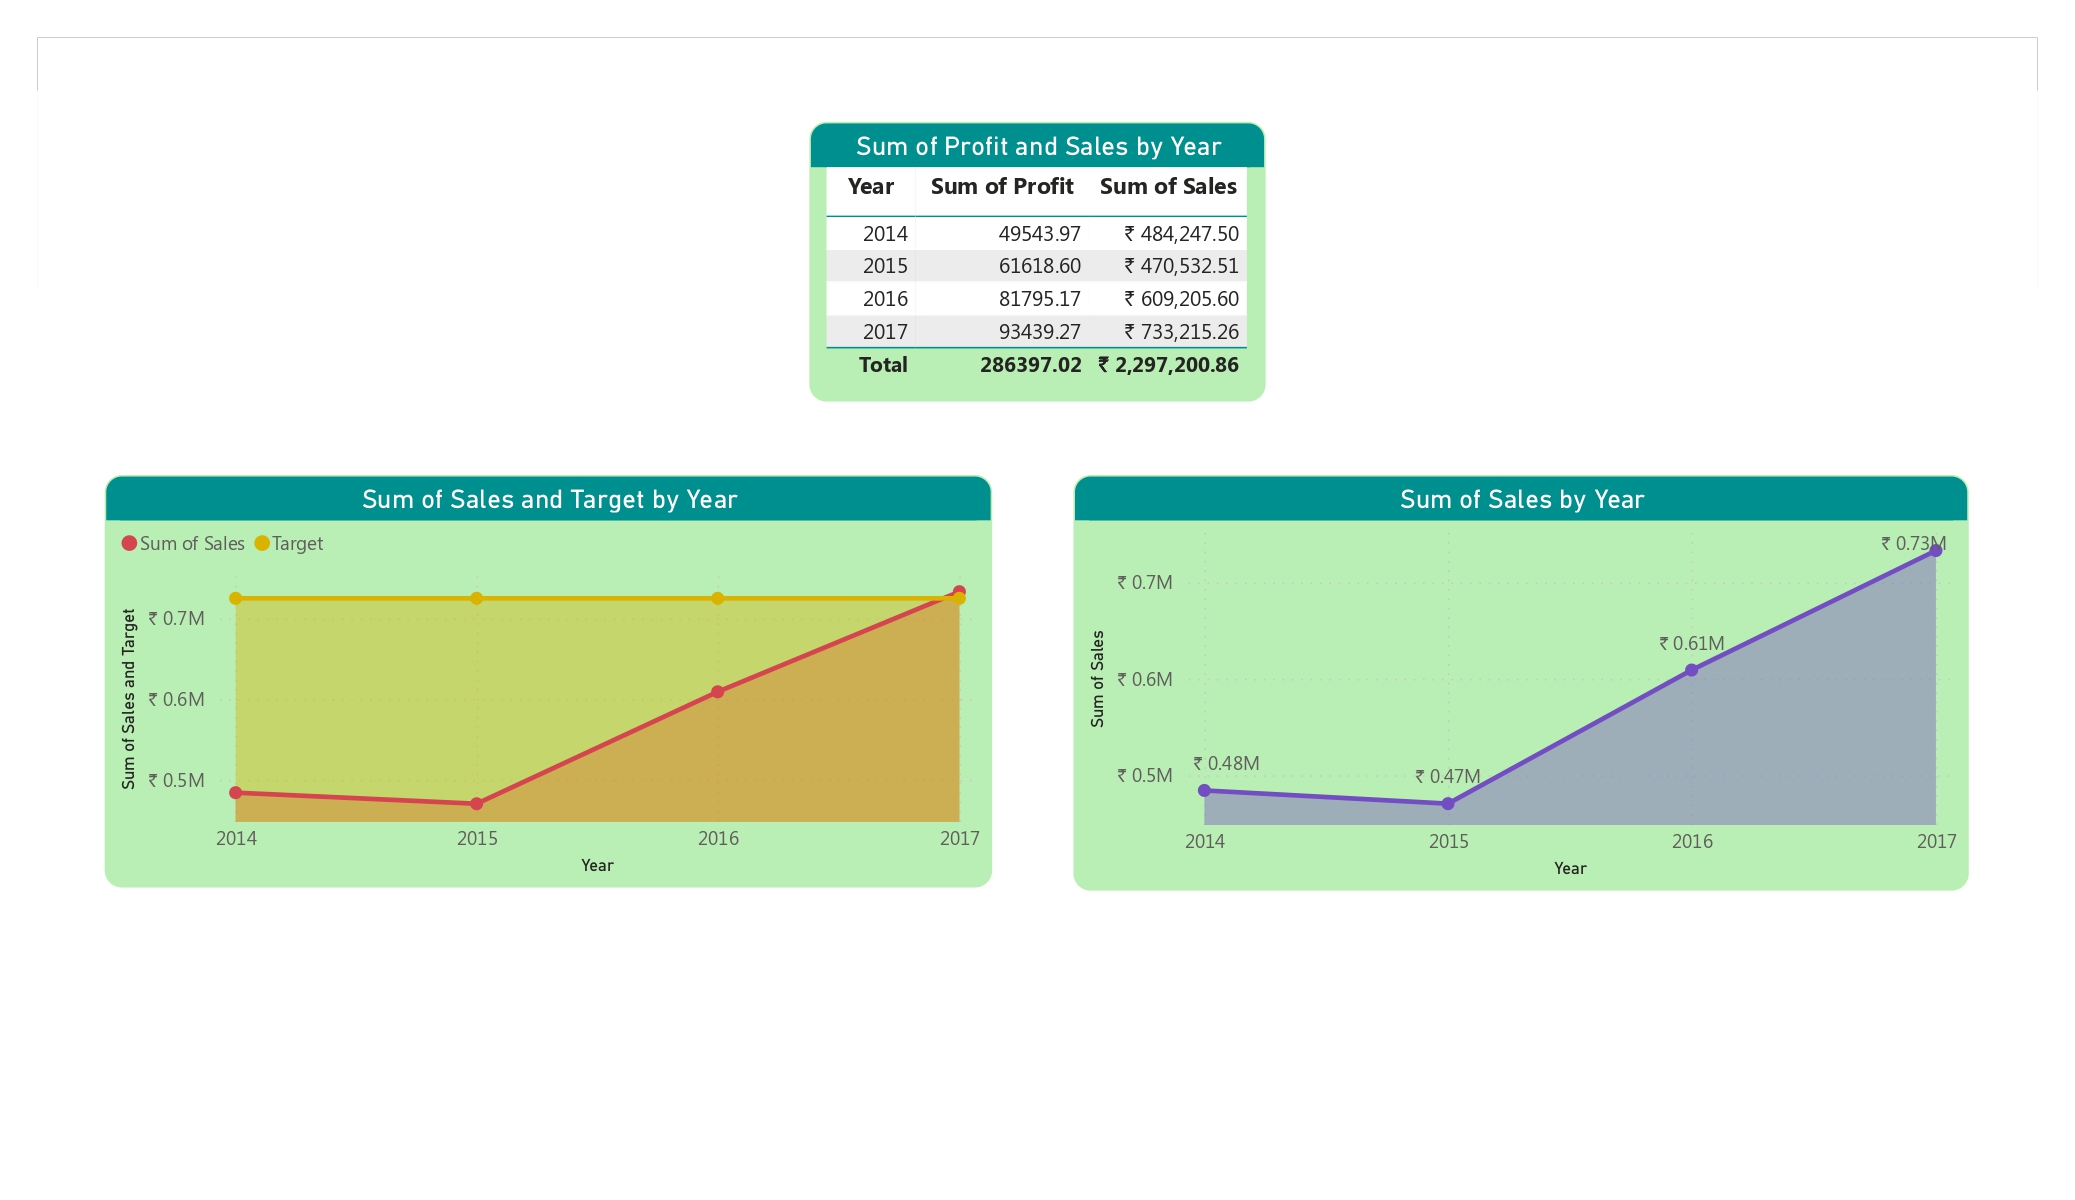

Layout of this report page (visuals, bound fields, positions):
{"tool":"powerbi","page":{"name":"Page 3","canvas":[1280,720],"ordinal":2},"visuals":[{"type":"tableEx","title":"Sum of Profit and Sales by Year","fields":{"Values":["Orders.Order Date.Variation.Date Hierarchy.Year","Sum(Orders.Profit)","Sum(Orders.Sales)"]},"box":[493.8,53.8,292.5,178.8],"z":0},{"type":"areaChart","fields":{"Category":["Orders.Order Date.Variation.Date Hierarchy.Year"],"Y":["Sum(Orders.Sales)","Orders.Target"]},"box":[42.5,280,568.8,263.8],"z":1000},{"type":"areaChart","fields":{"Category":["Orders.Order Date.Variation.Date Hierarchy.Year"],"Y":["Sum(Orders.Sales)"]},"box":[662.5,280,573.8,266.2],"z":2000}]}

Visuals, with their boxes on the page's 1280x720 design canvas (x1, y1, x2, y2). These are canvas units, not pixel positions in the 2075x1200 screenshot, which may show the page scaled, cropped or inside an application window:
"Sum of Profit and Sales by Year" tableEx: box(494, 54, 786, 233)
areaChart - Orders.Order Date.Variation.Date Hierarchy.Year x Sum(Orders.Sales): box(42, 280, 611, 544)
areaChart - Orders.Order Date.Variation.Date Hierarchy.Year x Sum(Orders.Sales): box(662, 280, 1236, 546)
